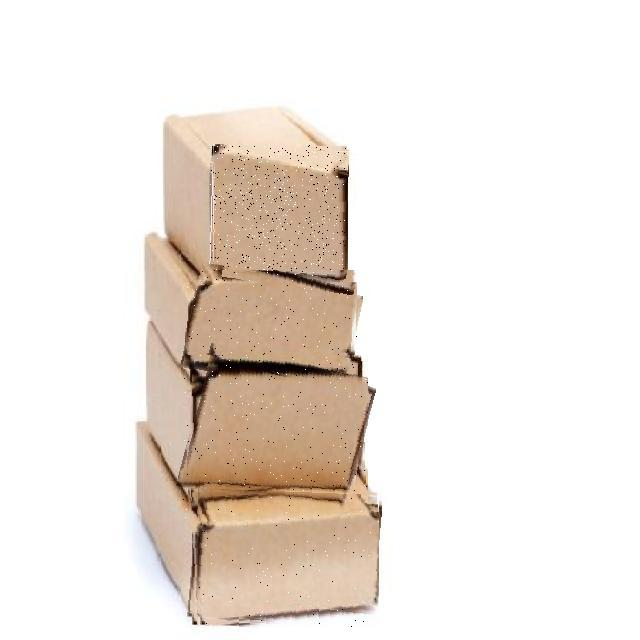BoxFace: (183, 355, 368, 520), (190, 488, 379, 629), (185, 270, 358, 393), (210, 145, 348, 292)
